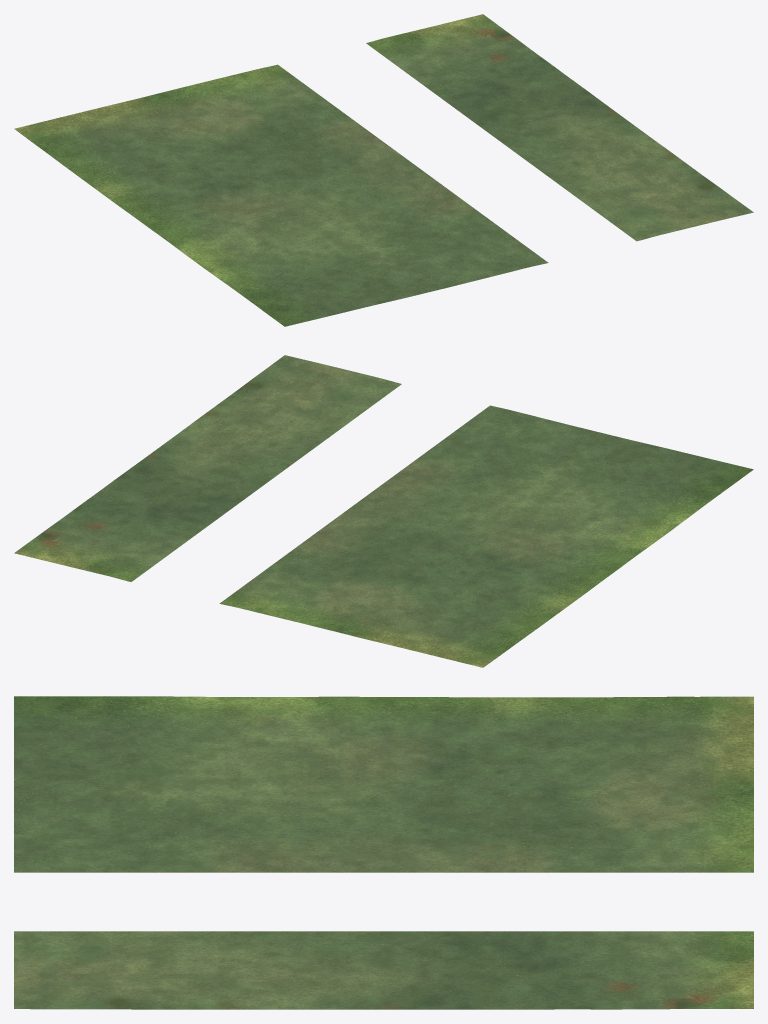
Rendered from chunk_0_4.glb.
3 renders of one model, top to bottom at view 1: azimuth 30°, elevation 25°; view 2: azimuth 150°, elevation 25°; view 3: azimuth 270°, elevation 25°, orthographic. The views are drawn at different scales.
Visible parts, largest first — view 1: chunk_0_4; view 2: chunk_0_4; view 3: chunk_0_4.
Part boxes in pixels (x1,y1,x2,y2): chunk_0_4: (14, 14, 753, 326); chunk_0_4: (14, 355, 753, 667); chunk_0_4: (14, 696, 753, 1009).
Bounding box in the file's own units: 128 × 0.256 × 128.
1 material, 1 textured.
